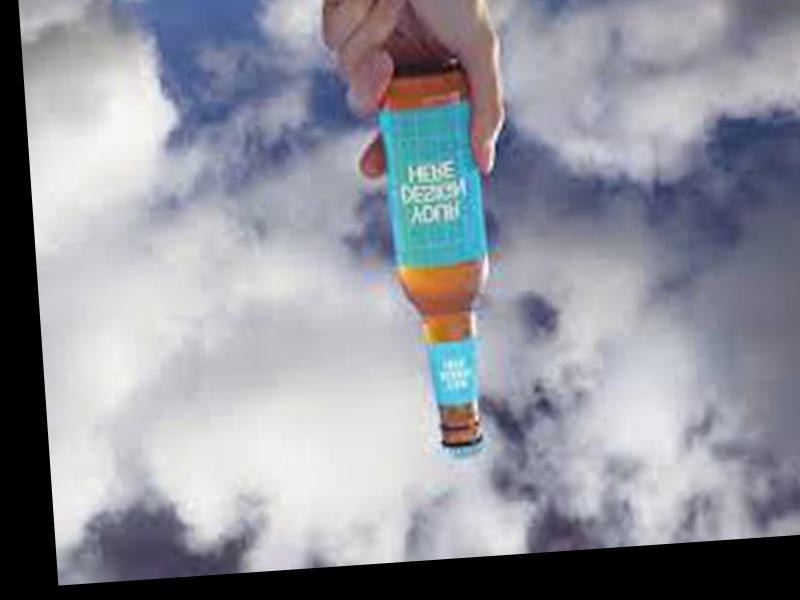Beer: (385, 63, 501, 459)
